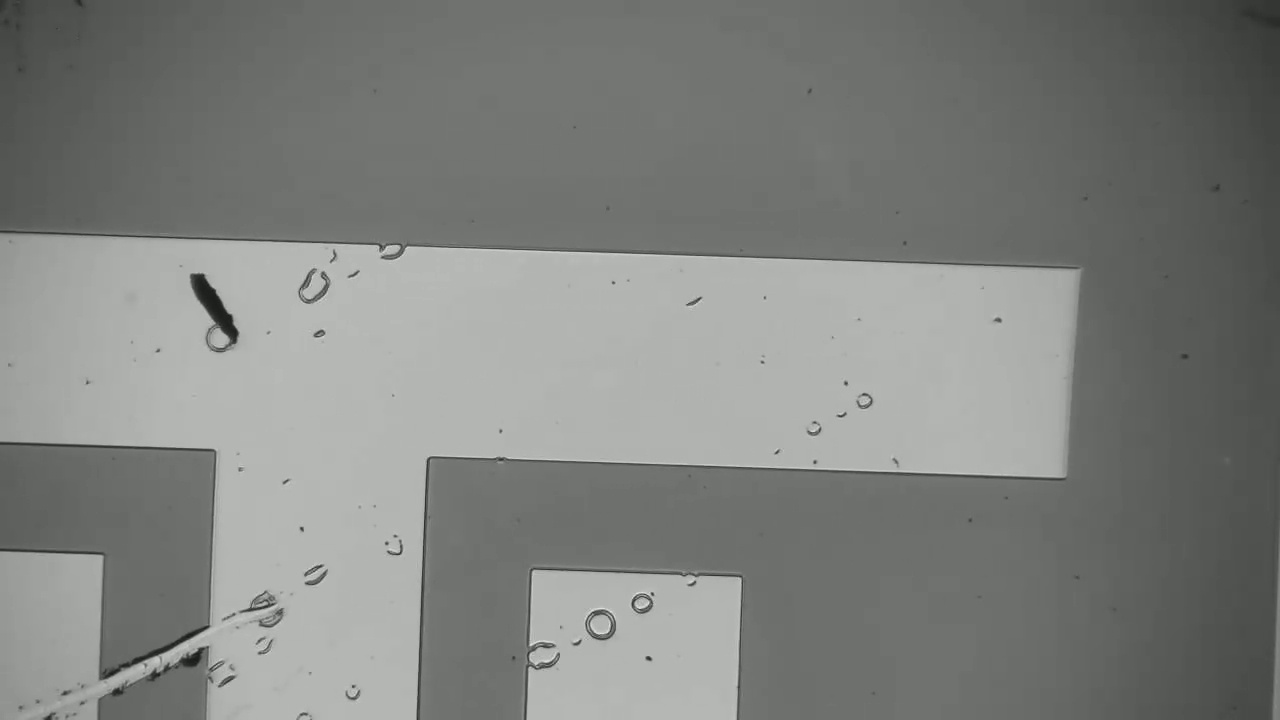Short_circuit: (71, 599, 236, 712)
